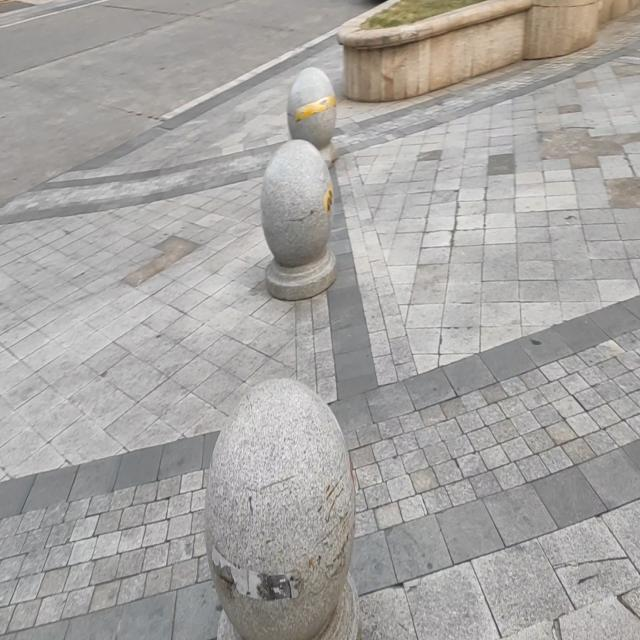spherical_roadblock: (199, 372, 356, 640), (255, 133, 342, 306), (283, 63, 340, 170)
